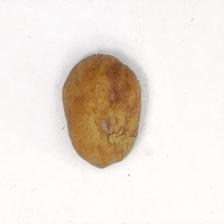NG: (106, 103, 141, 163)
